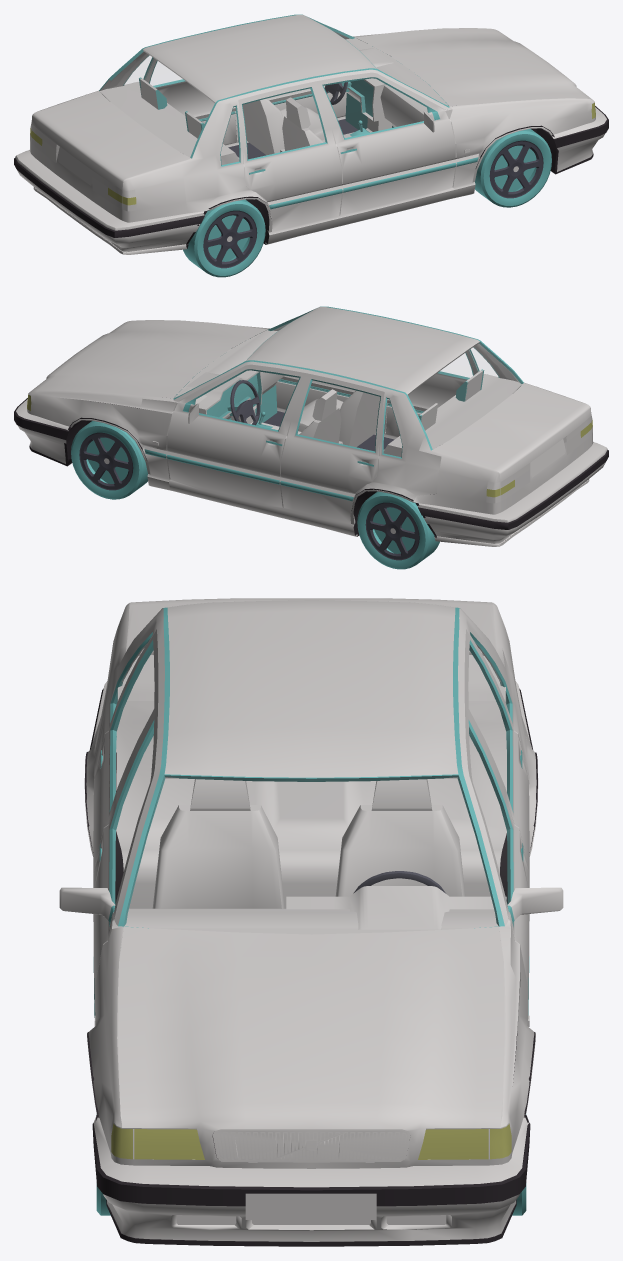
File: volvotest.FBX
3 renders of one model, top to bottom at view 1: azimuth 30°, elevation 25°; view 2: azimuth 150°, elevation 25°; view 3: azimuth 270°, elevation 25°, orthographic. The views are drawn at different scales.
Visible parts, largest first — view 1: Volvo, Wiel, wiel3, glass; view 2: Volvo, wiel2, Wiel1, Stuur, glass; view 3: Volvo.
Part boxes in pixels (x1,y1,x2,y2): Volvo: (14,14,608,254); Wiel: (183,199,265,277); wiel3: (475,129,551,207); glass: (125,56,181,85); Volvo: (14,306,608,546); wiel2: (357,491,439,569); Wiel1: (71,421,147,499); Stuur: (230,380,260,425); glass: (441,348,497,377); Volvo: (59,598,563,1246).
Size of the model in its own units: 4.69 by 1.47 by 2.01.
